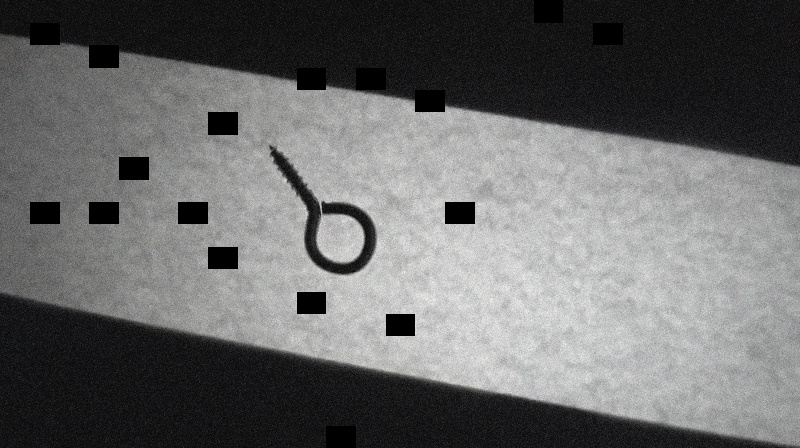O001: (267, 138, 379, 277)
